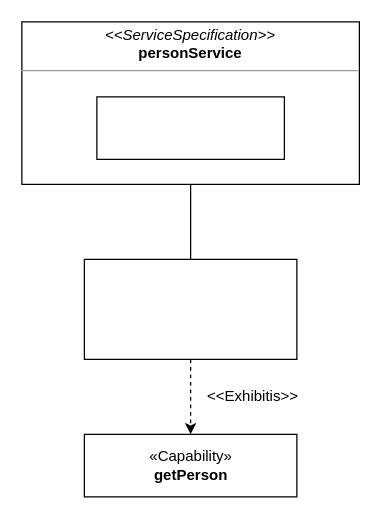
The diagram is 381 pixels wide and 519 high, and some of its shapes have lost their labels. The shapes that lost their labels are listed below. From the top down, each one's centre as x and y in pixels, then its label:
At (x=190, y=127): "«ServiceSpecificationRole» PO: PersonObject".
At (x=190, y=308): "<<ServiceSpecification>> EnterpriseAccess".
